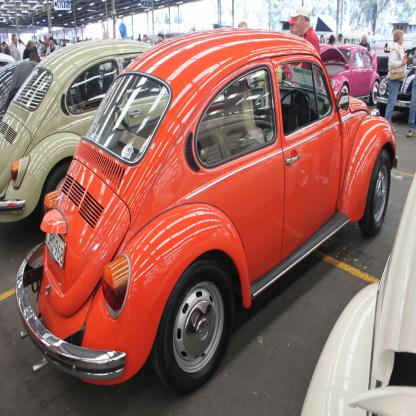Car: (0, 34, 416, 398), (299, 175, 416, 416)
